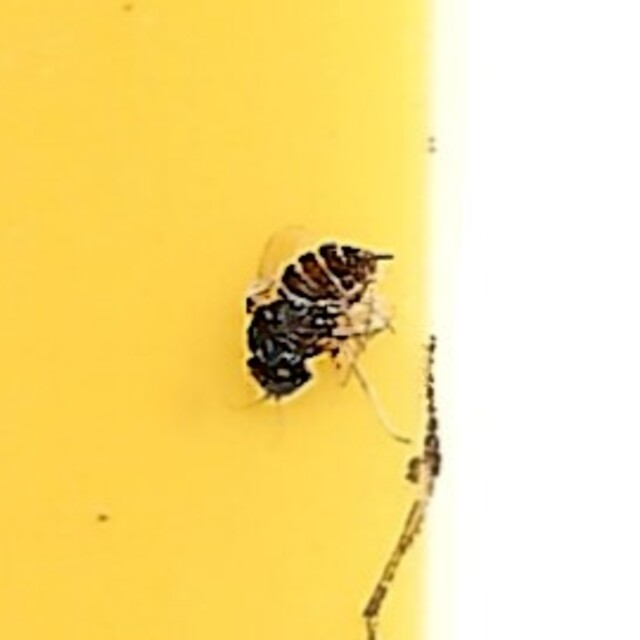Brachycera: (237, 222, 403, 418)
